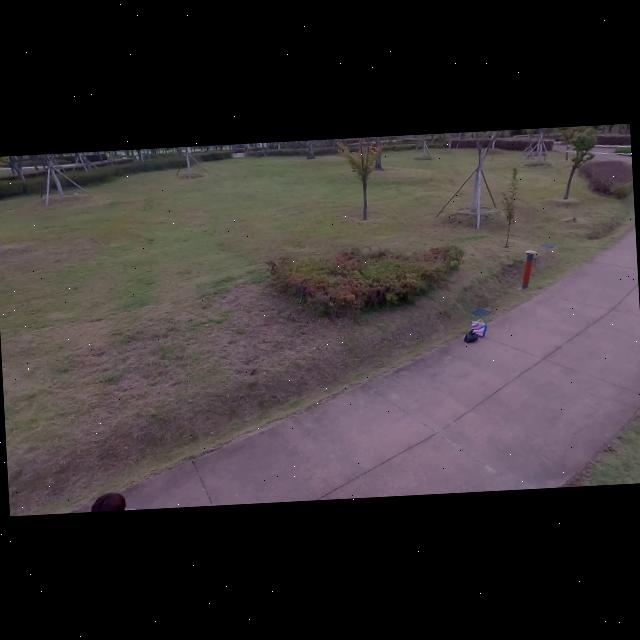trash: (469, 317, 488, 338), (463, 330, 479, 344)
